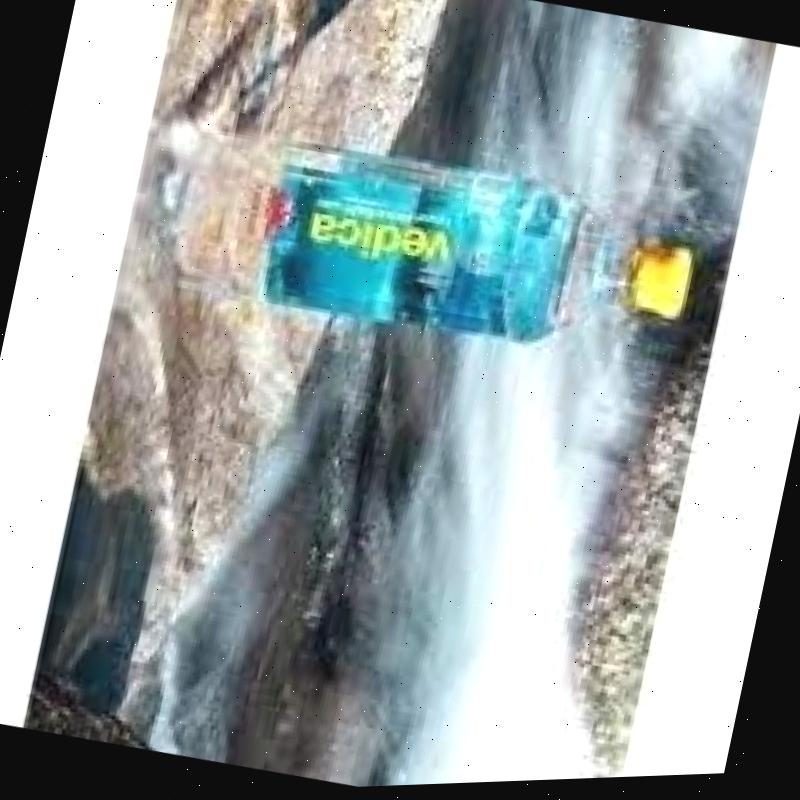botella: (154, 104, 712, 398)
